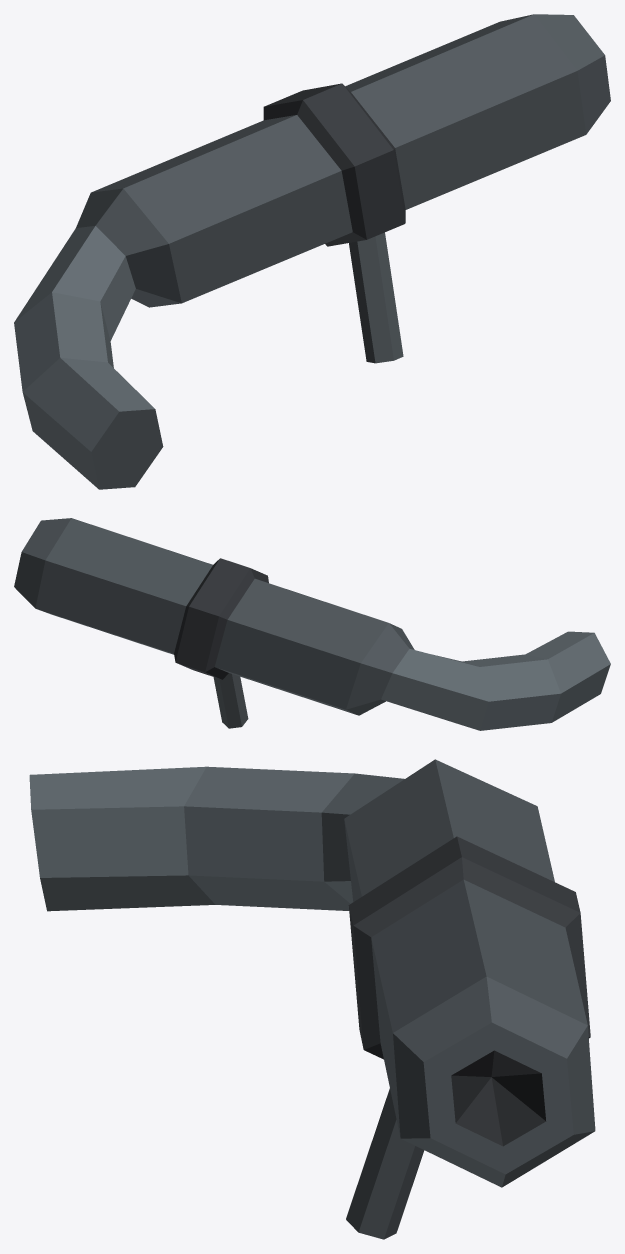
File: SM_Veh_Kart_01_Exhaust_01.fbx
3 views of the same model, one above another, from view 1: azimuth 30°, elevation 25°; view 2: azimuth 150°, elevation 25°; view 3: azimuth 270°, elevation 25° (orthographic). The views are drawn at different scales.
Visible parts, largest first — view 1: SM_Veh_Kart_01_Exhaust_01; view 2: SM_Veh_Kart_01_Exhaust_01; view 3: SM_Veh_Kart_01_Exhaust_01.
Part boxes in pixels (x1,y1,x2,y2): SM_Veh_Kart_01_Exhaust_01: (14,14,610,489); SM_Veh_Kart_01_Exhaust_01: (14,518,610,730); SM_Veh_Kart_01_Exhaust_01: (29,759,595,1239).
Size of the model in its own units: 59.59 by 23.64 by 31.22.
